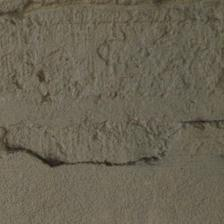Crack: (2, 64, 180, 110)
